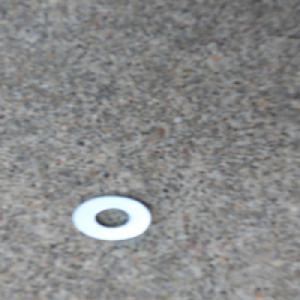Washer: (69, 193, 153, 242)
